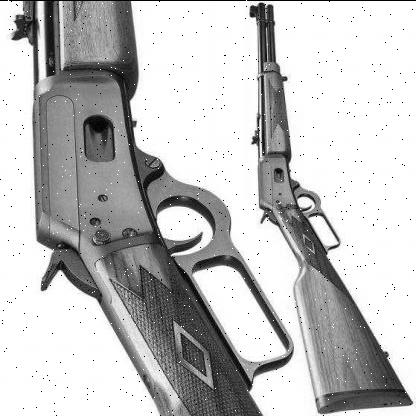rifle: (8, 1, 293, 416), (219, 3, 409, 405)
